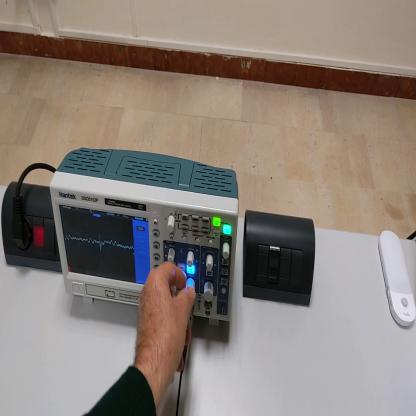hand: (133, 263, 197, 415)
oscilloscope: (52, 148, 242, 327)
socket: (2, 183, 63, 277)
